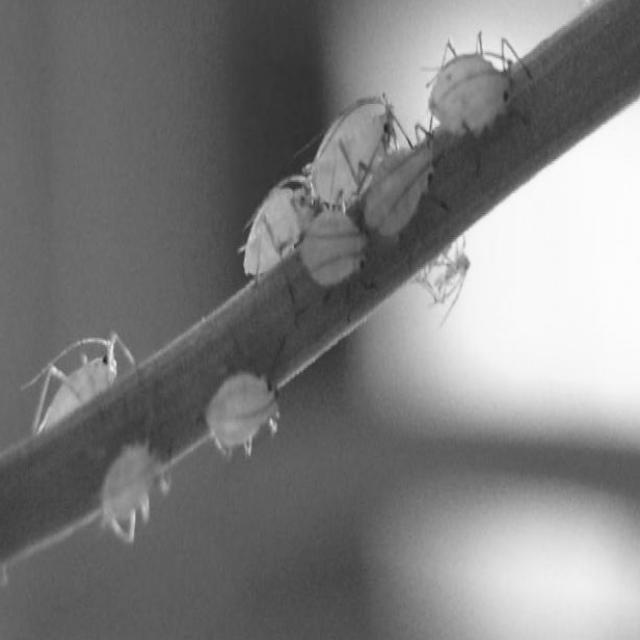Aphids: (234, 20, 551, 321), (26, 302, 139, 436), (202, 328, 286, 476)
